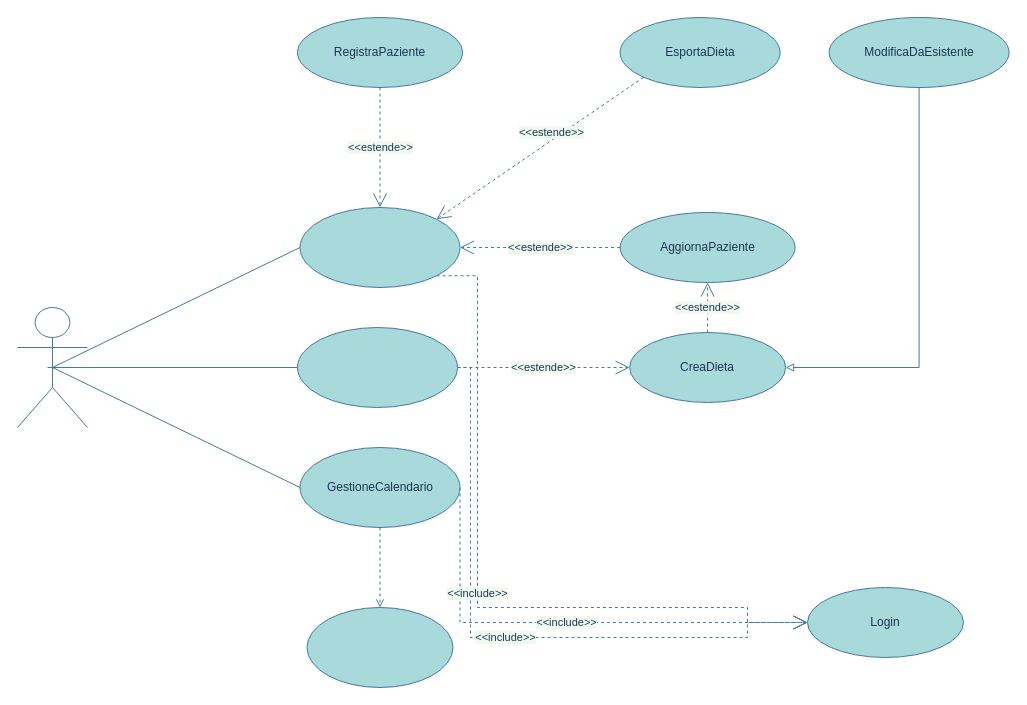
The diagram is 1027 pixels wide and 705 high, and some of its shapes have lost their labels. Each missing label, with the centre of its shape:
AggiungiAppuntamento: point 379,647
GestioneAlimenti: point 377,367
GestionePaziente: point 379,247
Nutrizionista: point 52,367
